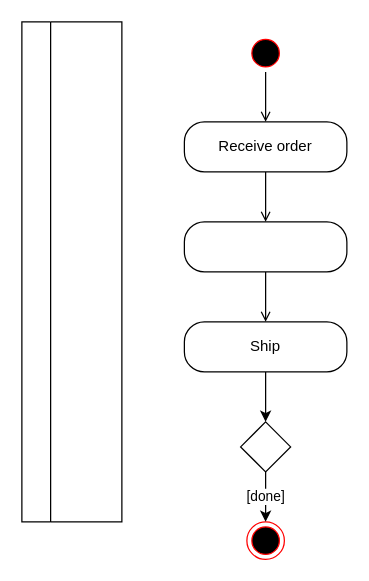
The diagram is 369 pixels wide and 581 high, and some of its shapes have lost their labels. The shapes that lost their labels are listed below. From the top down, each one's centre as x and y in pixels, then its label:
the point at 265,246: Check stock
the point at 71,271: Customer
